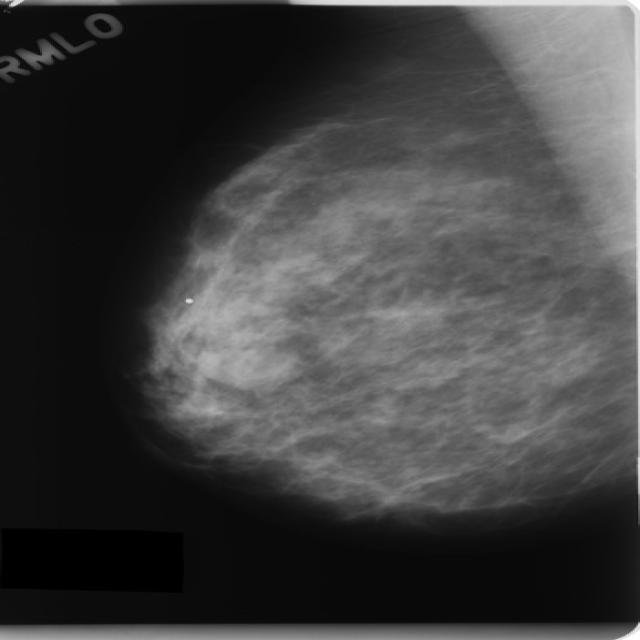tumour: (195, 342, 303, 388)
